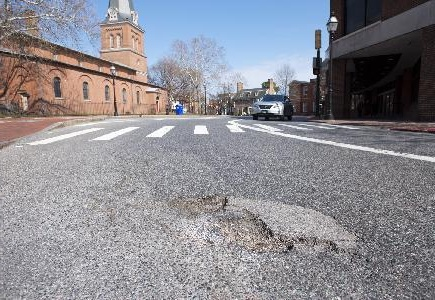pothole: (221, 210, 297, 257), (166, 192, 230, 218)
